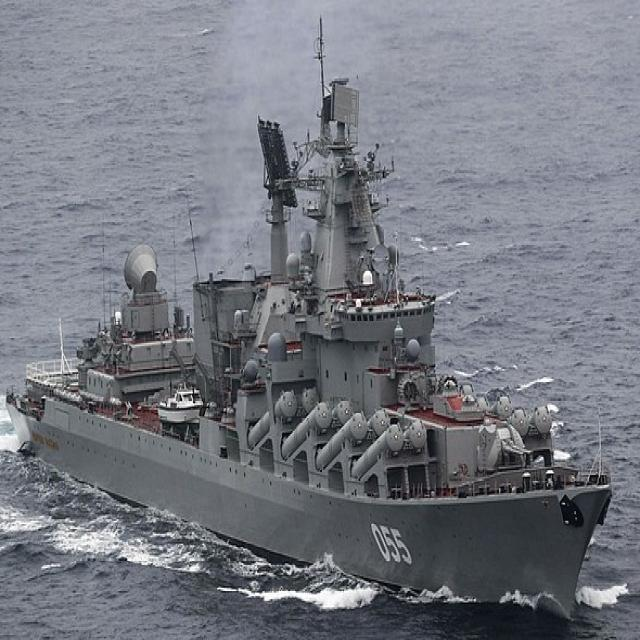navalvessels: (9, 55, 607, 626)
